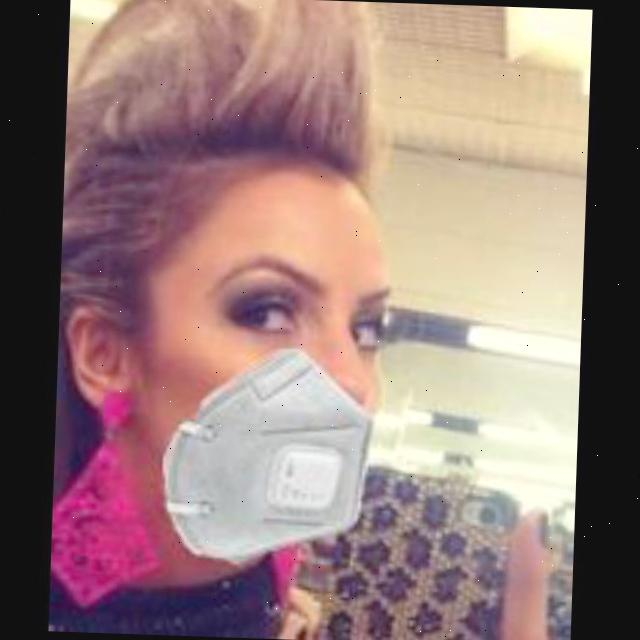suspicion: (111, 116, 472, 556)
